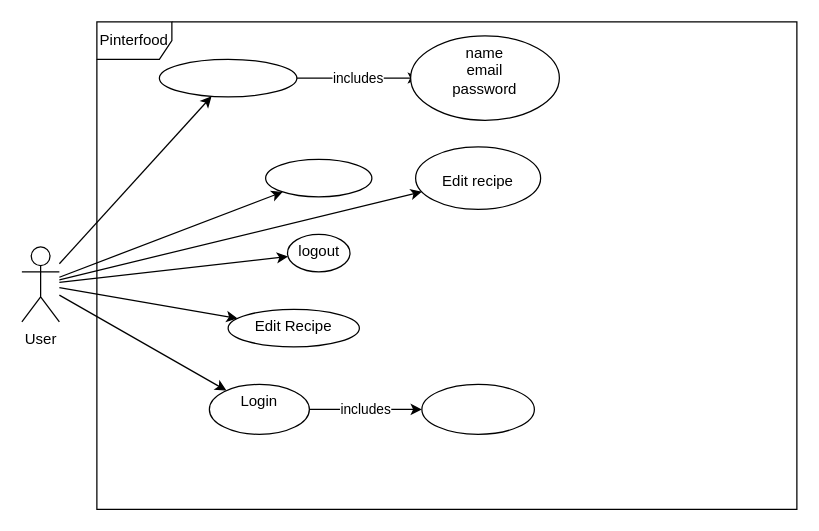
The diagram is 819 pixels wide and 531 high, and some of its shapes have lost their labels. Here are the shapes that lost their labels. From the top down, the centre of each, then its label:
the point at 227,77: Register
the point at 318,177: post recipe
the point at 477,408: name password
